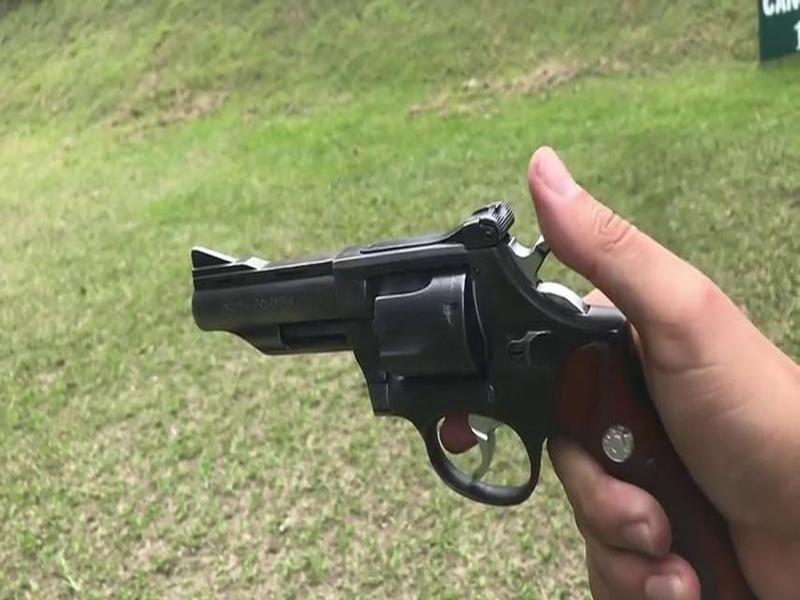Revolver: (164, 151, 703, 534)
